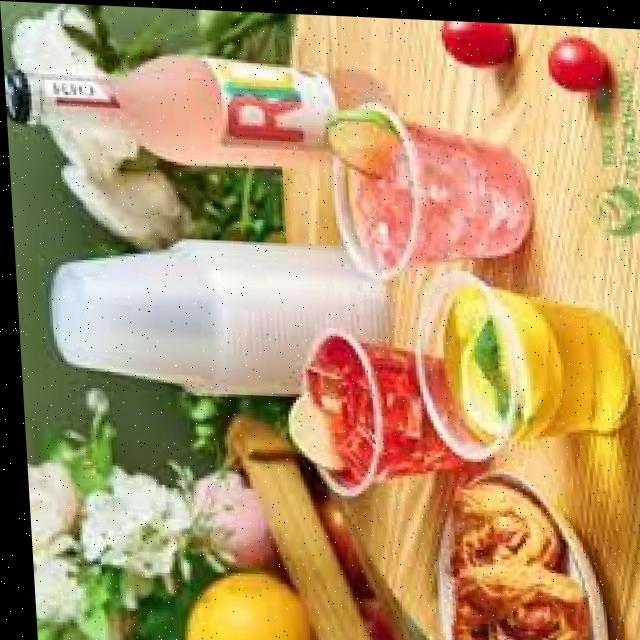cup: (411, 267, 627, 456), (326, 101, 528, 272), (299, 329, 475, 493), (49, 236, 223, 383)
